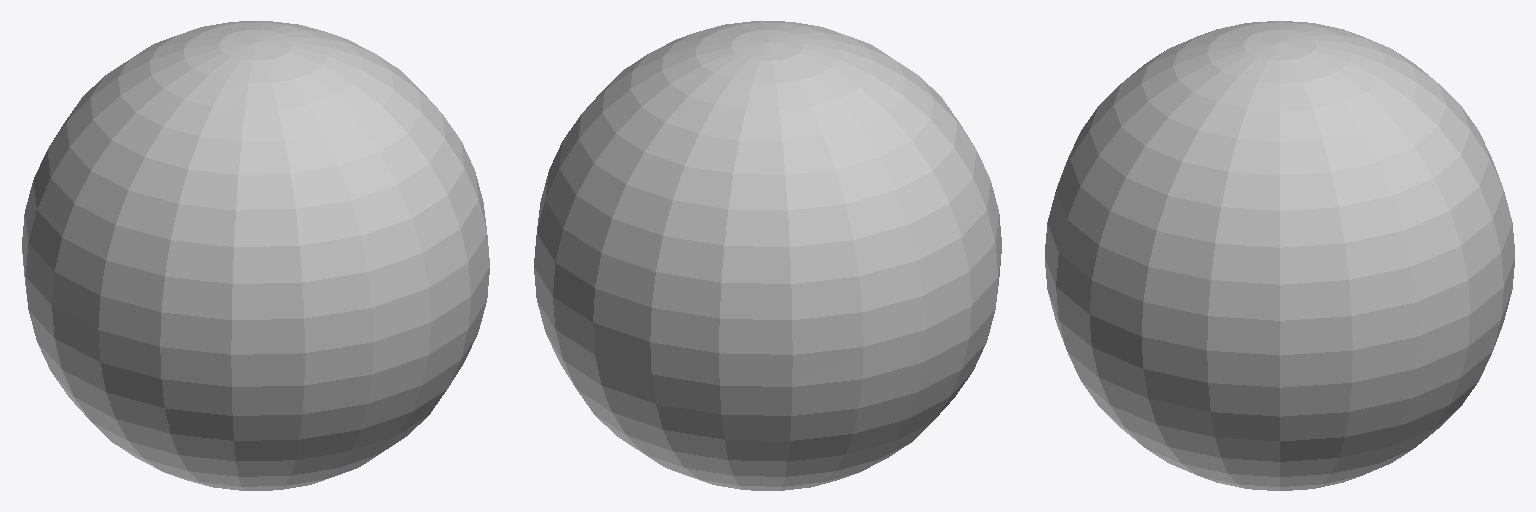
File: canica1.obj
The picture shows the model from 3 angles: view 1: azimuth 30°, elevation 25°; view 2: azimuth 150°, elevation 25°; view 3: azimuth 270°, elevation 25°; orthographic projection.
Visible parts, largest first — view 1: pSphere1; view 2: pSphere1; view 3: pSphere1.
Part boxes in pixels (bbox=[...]): pSphere1: bbox=[22, 21, 489, 490]; pSphere1: bbox=[534, 21, 1001, 490]; pSphere1: bbox=[1045, 21, 1514, 490].
Bounding box in the file's own units: 0.214 × 0.214 × 0.214.